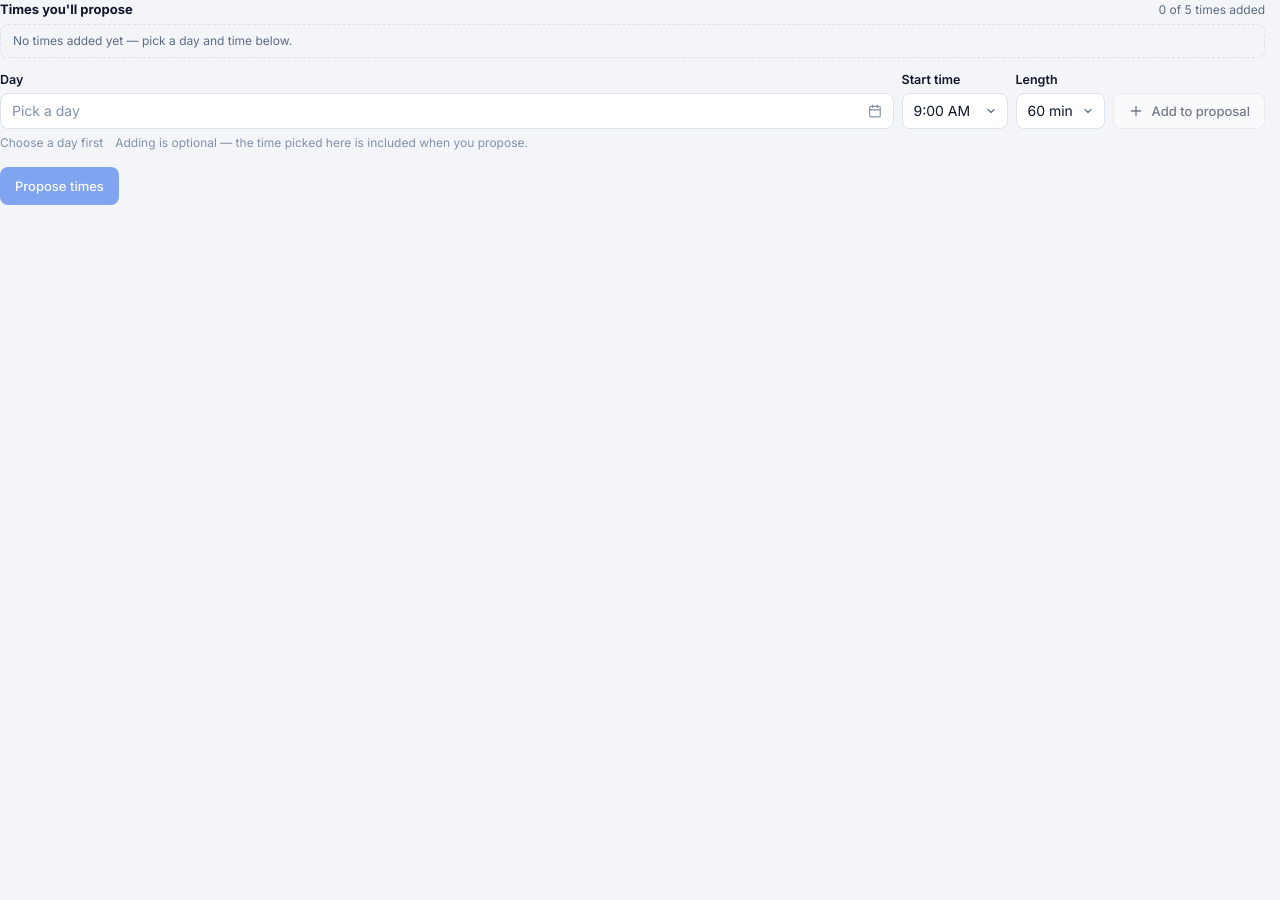
it: ProposeSlotsForm › will not offer the same time twice
Click the button "Pick a day": (46, 110) [0,92,894,128]
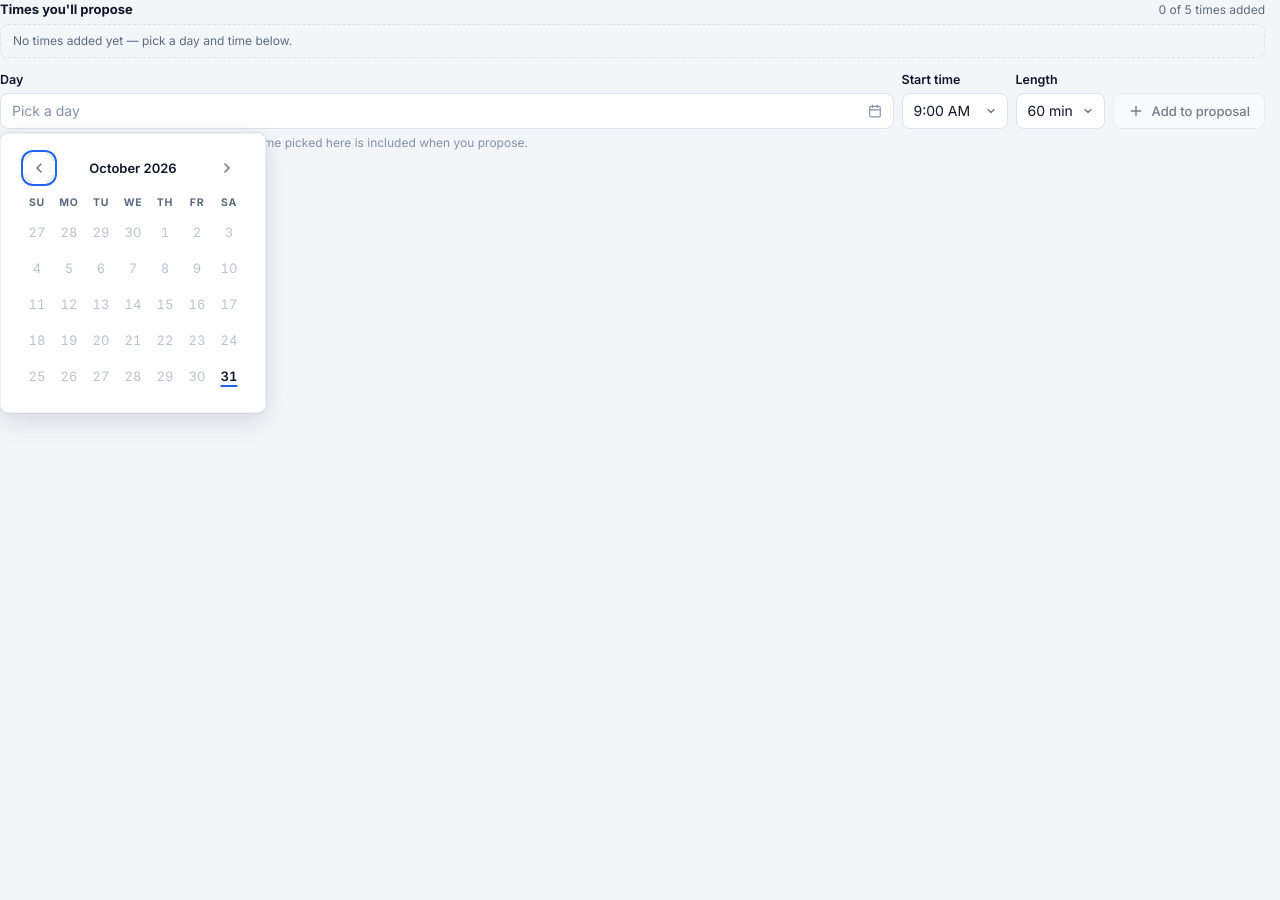
Click the button "31": (229, 376) [213,360,245,392]
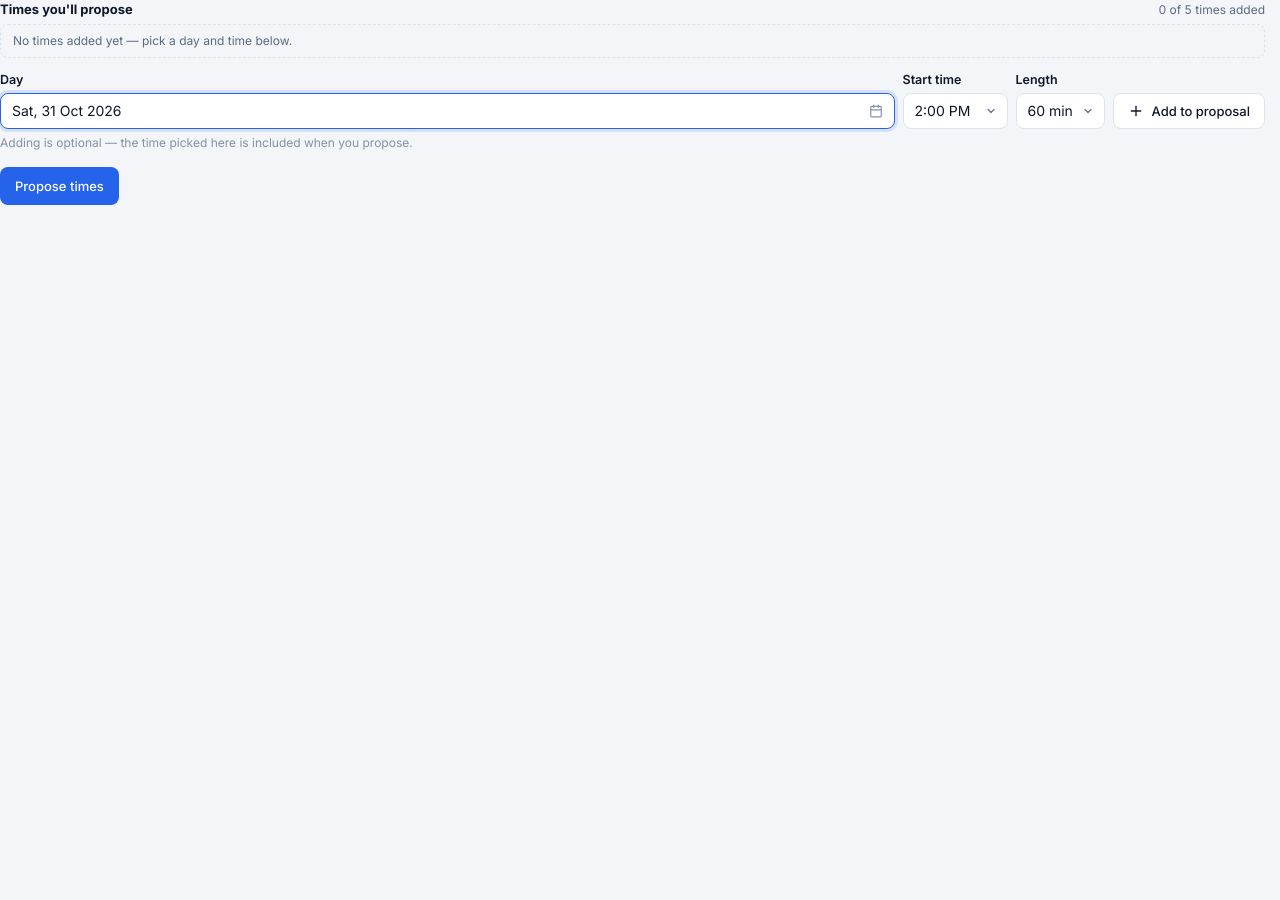
Click the button "Add to proposal": (1189, 110) [1112,92,1265,128]
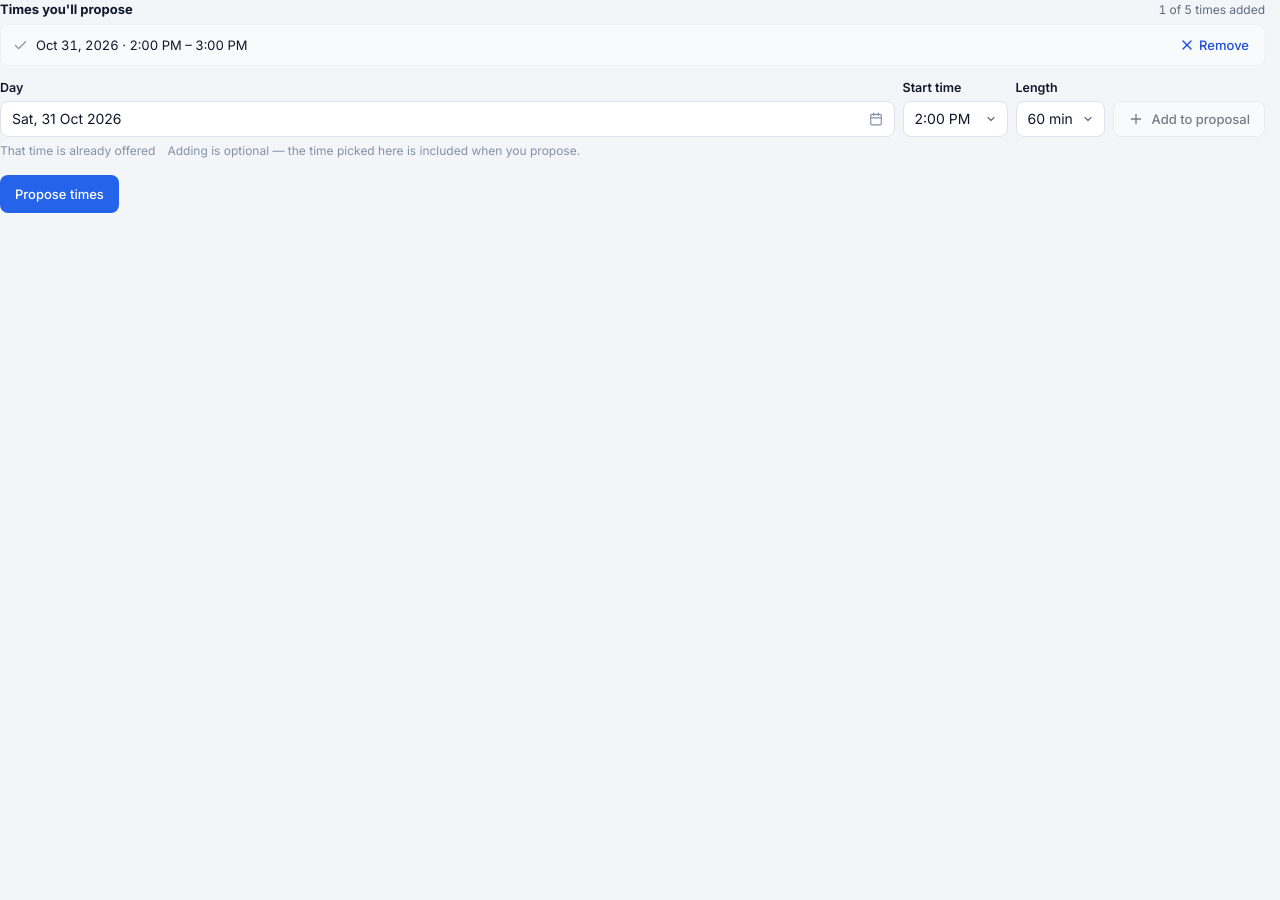
Result: the text "That time is already offered" is shown at [0,142,156,158]
Result: the button "Add to proposal" is disabled at [1112,100,1265,136]
